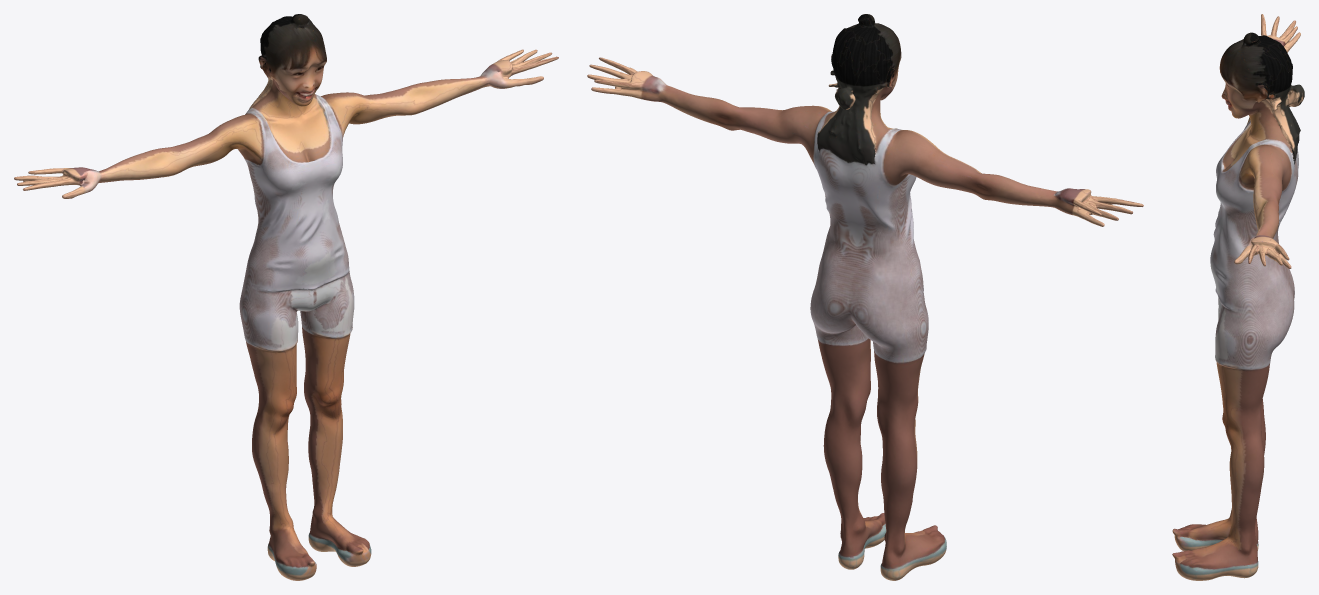
Rendered from body.glb.
3 views of the same model, side by side, from view 1: azimuth 30°, elevation 25°; view 2: azimuth 150°, elevation 25°; view 3: azimuth 270°, elevation 25° (orthographic). The views are drawn at different scales.
Parts seen in each view (by area): view 1: doll; view 2: doll; view 3: doll.
Part boxes in pixels (box(x1,y1,x2,y2)): doll: box(14, 14, 558, 580); doll: box(587, 14, 1143, 580); doll: box(1172, 14, 1304, 580).
Size of the model in its own units: 1.03 by 0.996 by 0.2232.
1 material, 1 textured.
